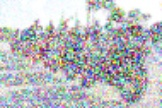Vehicle: (79, 15, 153, 104), (45, 20, 91, 81), (27, 25, 58, 64)
